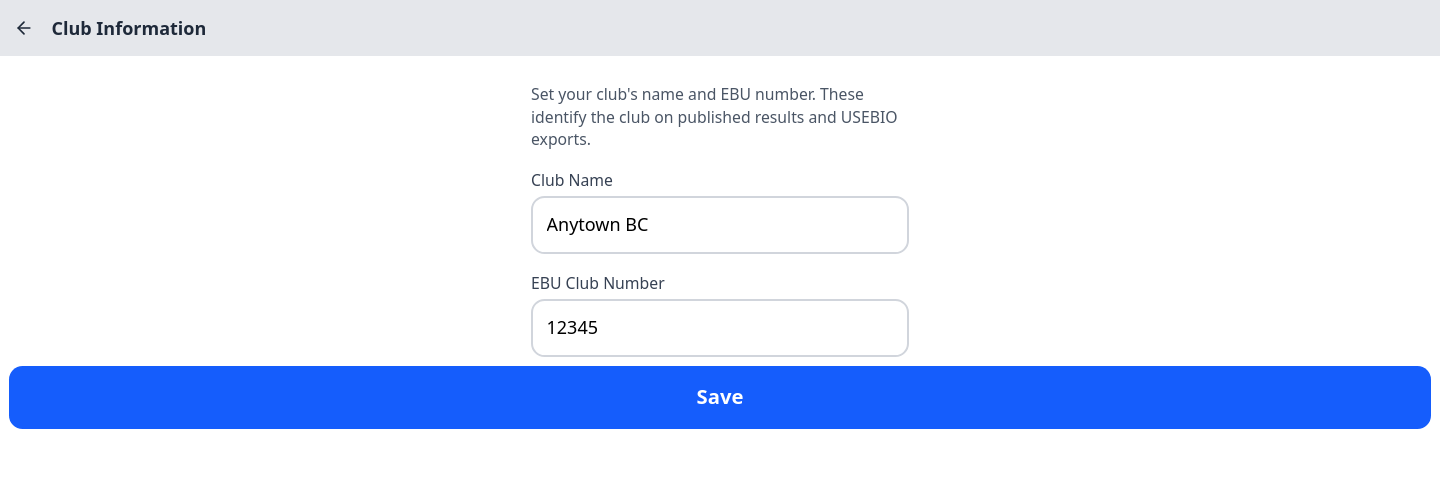
ClubSettingsPage › shows a network error if the request throws
Click the button "Save": (720, 397) [9, 366, 1431, 428]
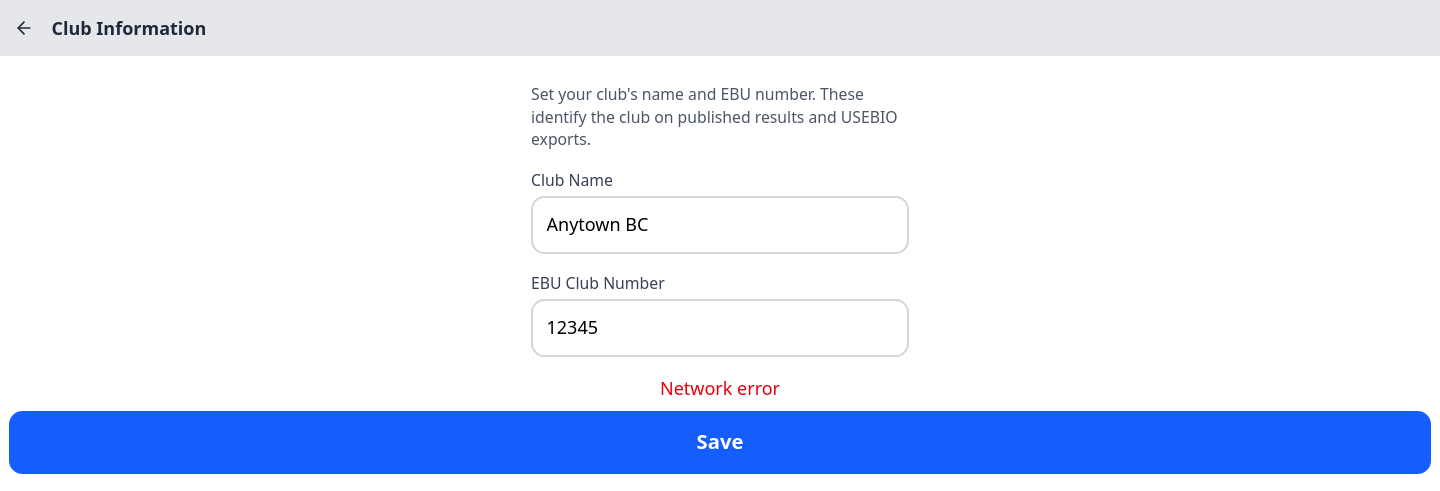
expect the text "Network error" is shown: met, box [660, 376, 780, 400]
